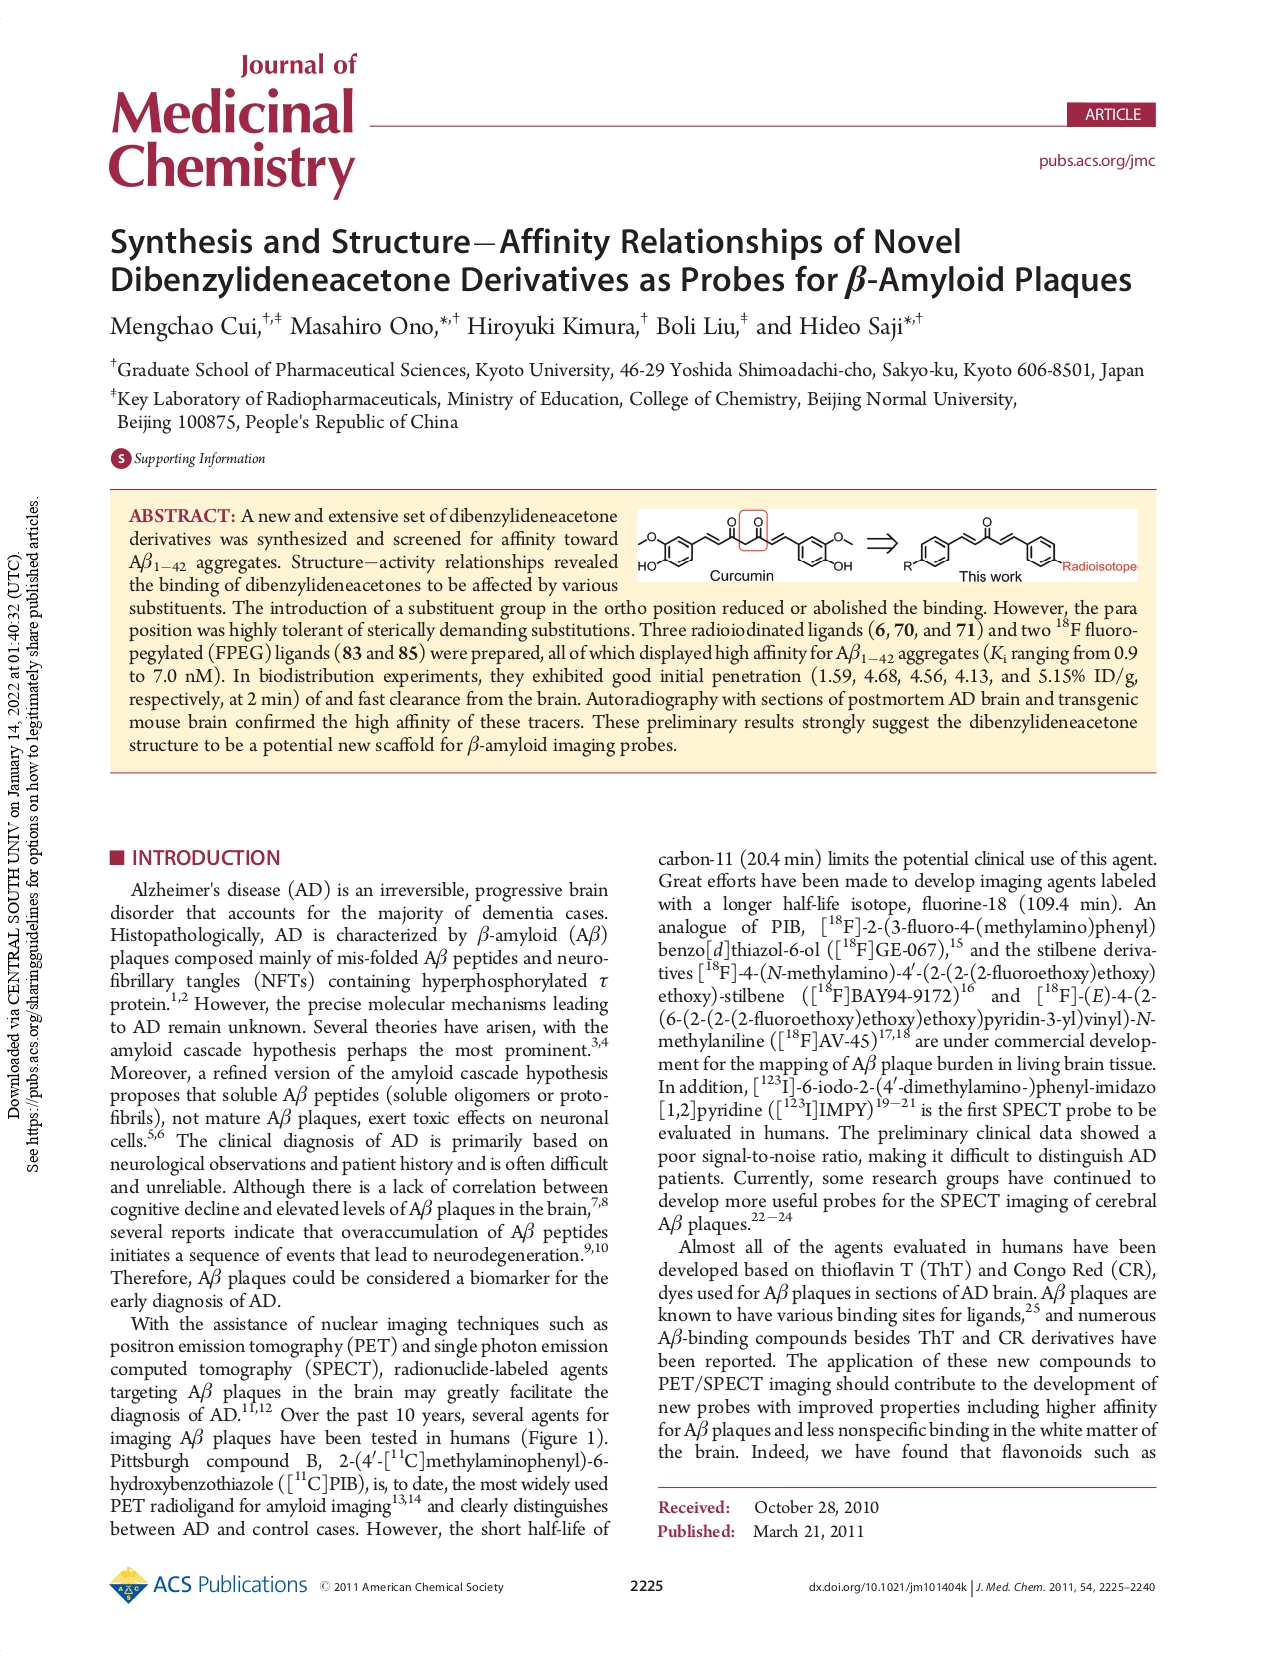exist_molecular: (899, 515, 1141, 576), (636, 513, 856, 572)
